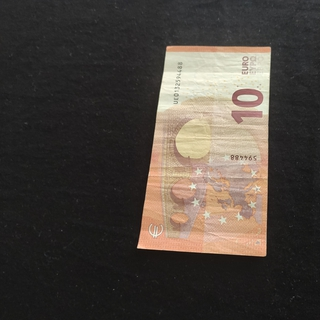10EUROBack: (137, 45, 271, 257)
